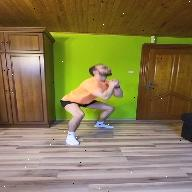squats: (57, 56, 139, 148)
